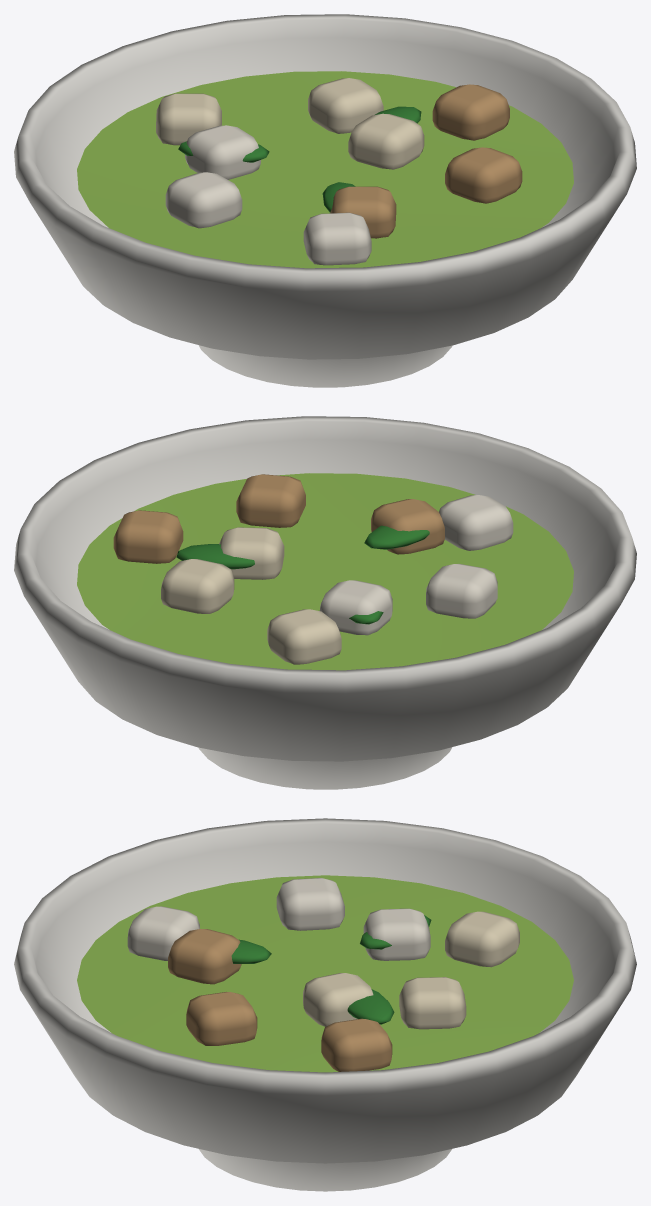
File: item_dish_green_curry.glb
3 views of the same model, one above another, from view 1: azimuth 30°, elevation 25°; view 2: azimuth 150°, elevation 25°; view 3: azimuth 270°, elevation 25° (orthographic).
Visible parts, largest first — view 1: item_dish_green_curry_main; view 2: item_dish_green_curry_main; view 3: item_dish_green_curry_main.
Boxes of the visible parts, bbox=[...] form: item_dish_green_curry_main: bbox=[14, 14, 636, 387]; item_dish_green_curry_main: bbox=[14, 416, 636, 789]; item_dish_green_curry_main: bbox=[14, 818, 636, 1191].
Size of the model in its own units: 0.21 by 0.07 by 0.21.
